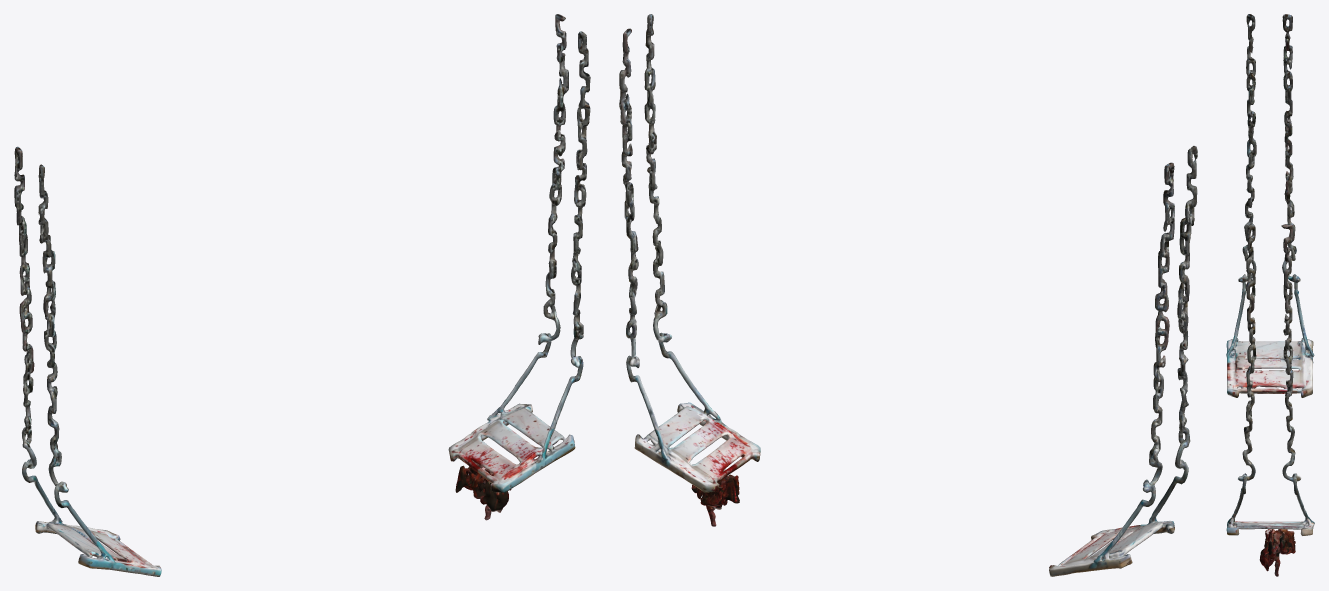
The model's file is swing.fbx.
3 views of the same model, side by side, from view 1: azimuth 30°, elevation 25°; view 2: azimuth 150°, elevation 25°; view 3: azimuth 270°, elevation 25° (orthographic). The views are drawn at different scales.
Visible parts, largest first — view 1: Mesh_0; view 2: Mesh_0; view 3: Mesh_0.
Part boxes in pixels (x1,y1,x2,y2): Mesh_0: (14, 14, 590, 576); Mesh_0: (619, 14, 1197, 576); Mesh_0: (1226, 14, 1314, 576).
Size of the model in its own units: 187 by 155 by 32.6.
1 material, 1 textured.
